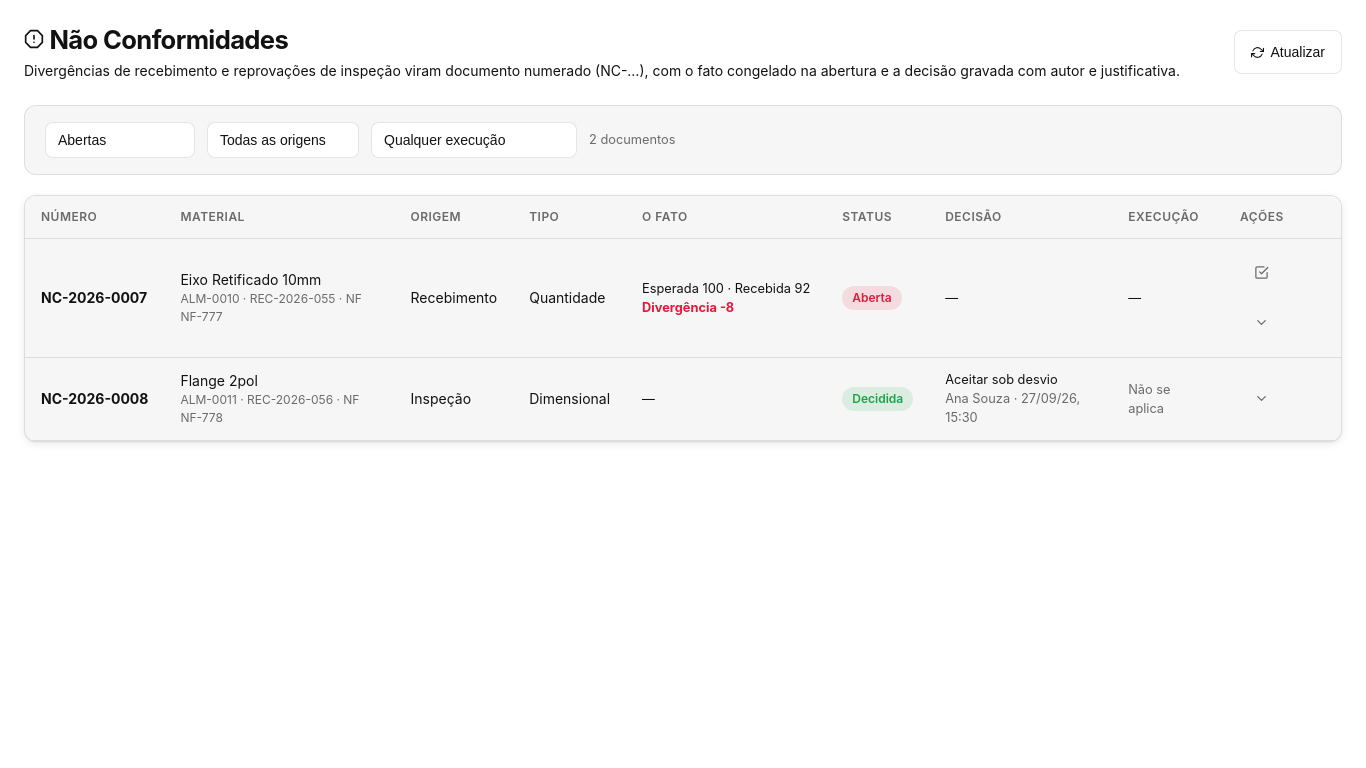
Test: NaoConformidadesAlmoxarifado — anexos do documento › (14) expandir a linha monta o bloco de anexos com a entidade `nao_conformidade` e o id da NC
This screenshot has width=1366, height=768.
Step 1. Click the button with class "almox-btn-icon" in the row of "NC-2026-0007" → click(1262, 323), box [1240,301,1284,345]
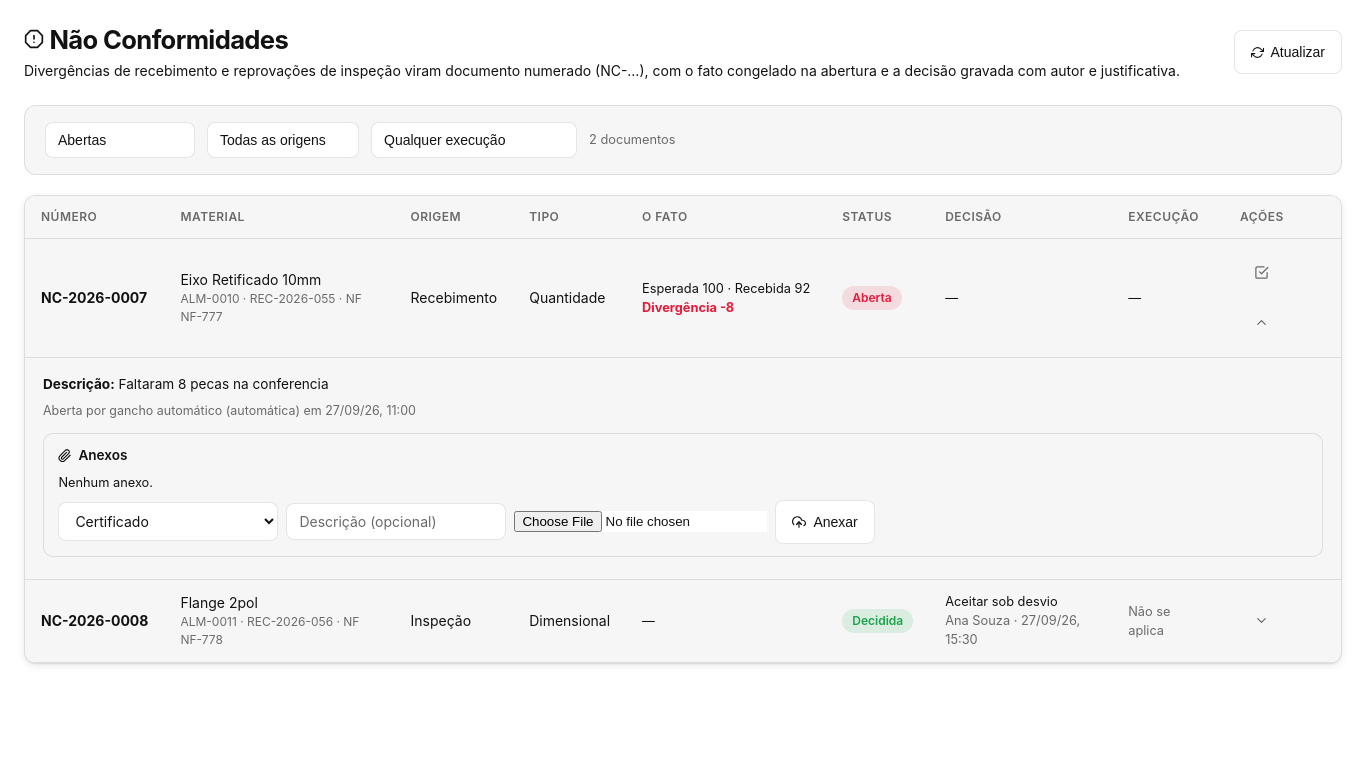
expect the row with test id "nc-detalhe-7" is shown: met, box [25,358,1341,580]
expect the row with test id "nc-detalhe-7" shows "Faltaram 8 pecas na conferencia": met, box [118,376,328,392]
